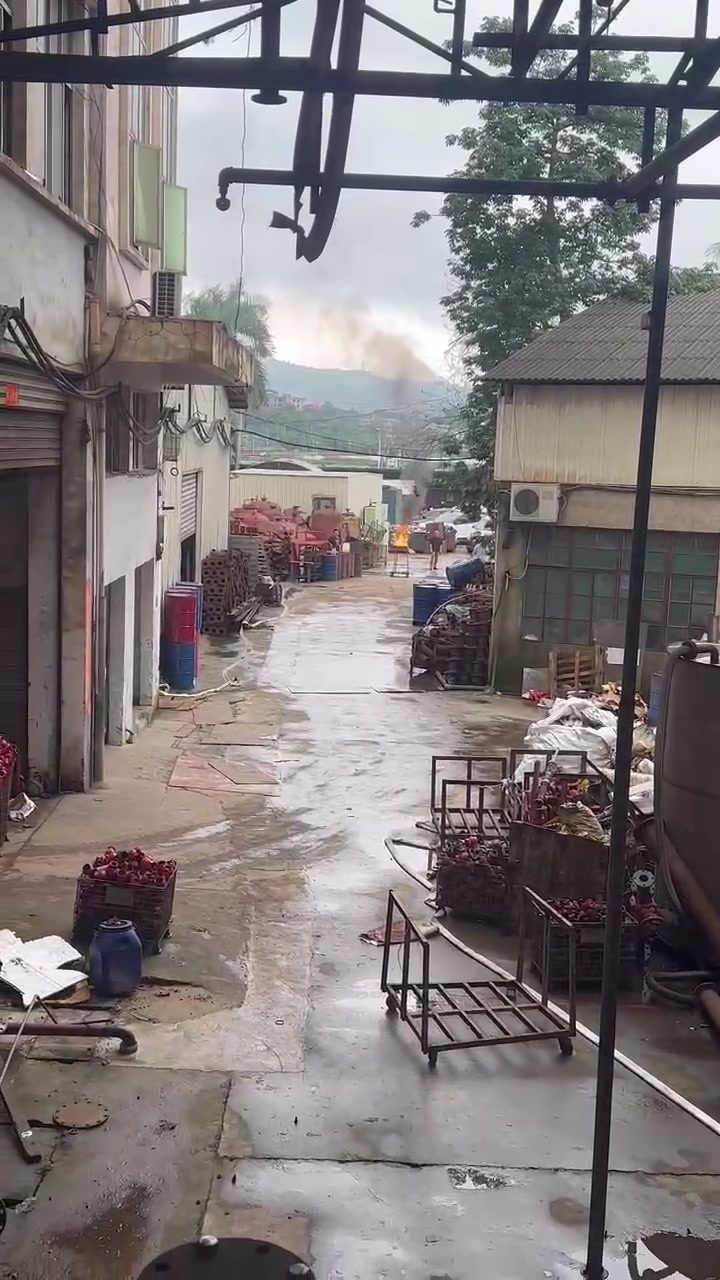fire: (392, 527, 407, 546)
